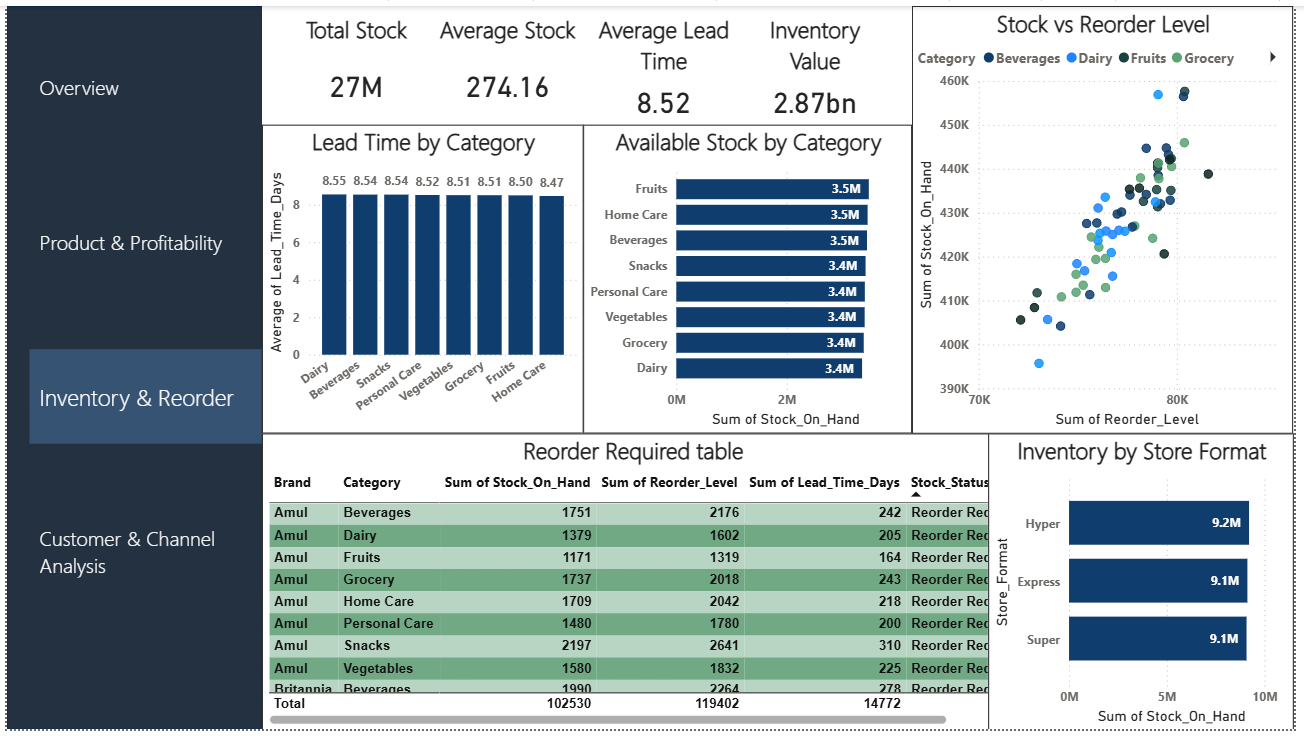

The dashboard page shown, as its layout file describes it:
{"tool":"powerbi","page":{"name":"Inventory & Reorder","canvas":[1280,720],"ordinal":2},"visuals":[{"type":"shape","box":[0,0,253.8,720],"z":0},{"type":"pageNavigator","box":[22.5,33.8,231.2,558.8],"z":1000},{"type":"card","title":"Total Stock","fields":{"Values":["Indian_FMCG_Retail_Sales_Customer_Inventory_(2024).Total_Stock"]},"box":[272.4,0,150.5,119.4],"z":2000},{"type":"card","title":"Average Stock","fields":{"Values":["Indian_FMCG_Retail_Sales_Customer_Inventory_(2024).Average_Stock"]},"box":[422.9,0,150.5,120.7],"z":3000},{"type":"card","title":"Average Lead Time","fields":{"Values":["Indian_FMCG_Retail_Sales_Customer_Inventory_(2024).Average_Lead_Time_Days"]},"box":[578.4,0,150.5,120.7],"z":4000},{"type":"card","title":"Inventory Value","fields":{"Values":["Indian_FMCG_Retail_Sales_Customer_Inventory_(2024).Inventory_Value"]},"box":[729,0,150.5,120.7],"z":5000},{"type":"scatterChart","title":"Stock vs Reorder Level","fields":{"X":["Sum(Indian_FMCG_Retail_Sales_Customer_Inventory_(2024).Reorder_Level)"],"Y":["Sum(Indian_FMCG_Retail_Sales_Customer_Inventory_(2024).Stock_On_Hand)"],"Category":["Indian_FMCG_Retail_Sales_Customer_Inventory_(2024).Brand"],"Series":["Indian_FMCG_Retail_Sales_Customer_Inventory_(2024).Category"]},"box":[900.6,0,379.4,425.4],"z":6000},{"type":"clusteredBarChart","title":"Available Stock by Category","fields":{"Category":["Indian_FMCG_Retail_Sales_Customer_Inventory_(2024).Category"],"Y":["Sum(Indian_FMCG_Retail_Sales_Customer_Inventory_(2024).Stock_On_Hand)"]},"box":[573.5,118.2,327.2,307.3],"z":7000},{"type":"tableEx","title":"Reorder Required table","fields":{"Values":["Indian_FMCG_Retail_Sales_Customer_Inventory_(2024).Brand","Indian_FMCG_Retail_Sales_Customer_Inventory_(2024).Category","Sum(Indian_FMCG_Retail_Sales_Customer_Inventory_(2024).Stock_On_Hand)","Sum(Indian_FMCG_Retail_Sales_Customer_Inventory_(2024).Reorder_Level)","Sum(Indian_FMCG_Retail_Sales_Customer_Inventory_(2024).Lead_Time_Days)","Indian_FMCG_Retail_Sales_Customer_Inventory_(2024).Stock_Status"]},"box":[254.4,424.9,737.5,295.6],"z":8000},{"type":"clusteredColumnChart","title":"Lead Time by Category","fields":{"Category":["Indian_FMCG_Retail_Sales_Customer_Inventory_(2024).Category"],"Y":["Avg(Indian_FMCG_Retail_Sales_Customer_Inventory_(2024).Lead_Time_Days)"]},"box":[253.8,118.2,319.7,307.3],"z":9000},{"type":"barChart","title":"Inventory by Store Format","fields":{"Category":["Indian_FMCG_Retail_Sales_Customer_Inventory_(2024).Store_Format"],"Y":["Sum(Indian_FMCG_Retail_Sales_Customer_Inventory_(2024).Stock_On_Hand)"]},"box":[976.2,424.9,304.1,295.6],"z":10000}]}

Visuals, with their boxes in screenshot pixels (x1, y1, x2, y2), scaled from the page's 1280x720 canvas onto the 1304x736 screenshot:
shape: [0,0,259,735]
pageNavigator: [23,35,258,606]
"Total Stock" card: [278,0,431,122]
"Average Stock" card: [431,0,584,123]
"Average Lead Time" card: [589,0,743,123]
"Inventory Value" card: [743,0,896,123]
"Stock vs Reorder Level" scatterChart: [917,0,1303,435]
"Available Stock by Category" clusteredBarChart: [584,121,918,435]
"Reorder Required table" tableEx: [259,434,1010,735]
"Lead Time by Category" clusteredColumnChart: [259,121,584,435]
"Inventory by Store Format" barChart: [995,434,1303,735]
